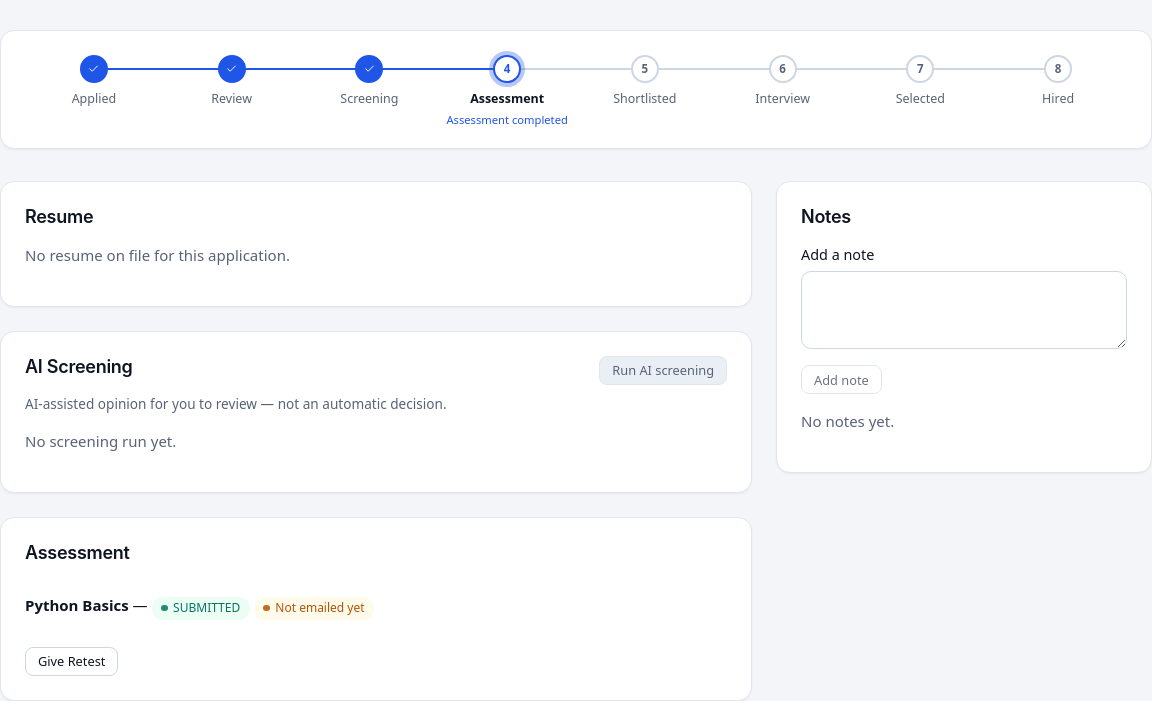
Test: ApplicationDetailPage – Send Retest › closes the modal, shows the success toast and refreshes the data when the retest succeeds
(page scrolled)
Click the button "Give Retest": coordinates (72, 662) [25,647,118,676]
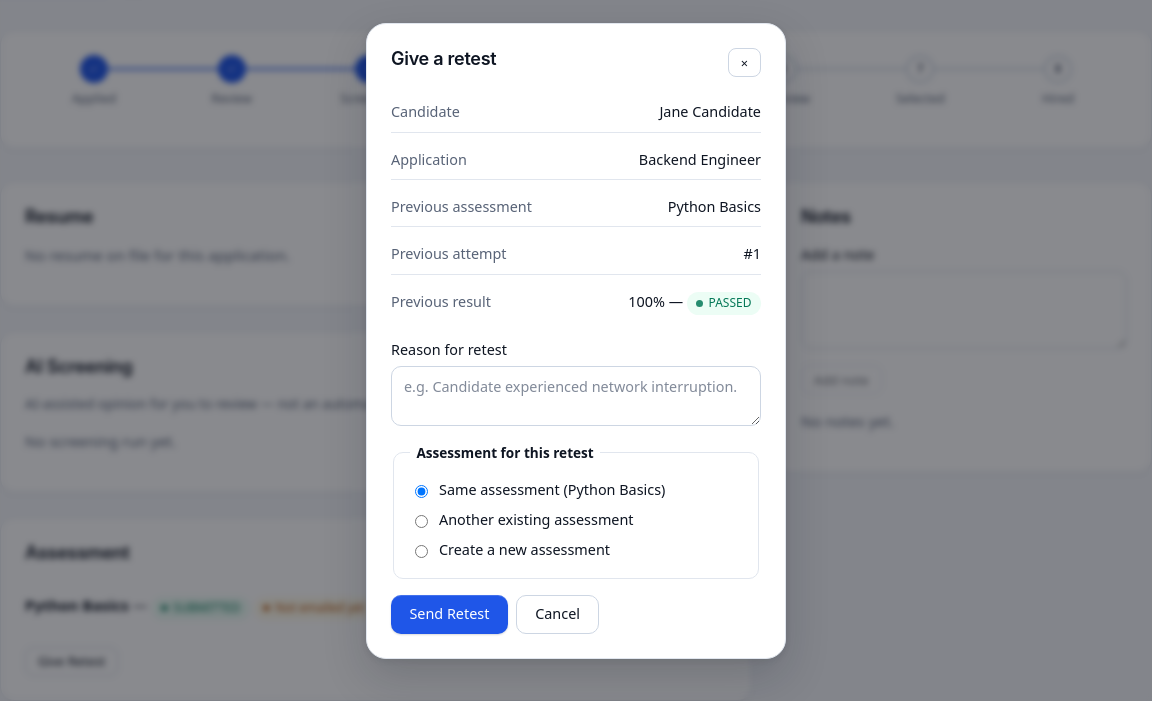
expect the dialog is shown: met, box [366,23,786,659]
In the text box labelled "Reason for retest": coordinates (576, 396) [391,366,761,426], type "Network interruption"
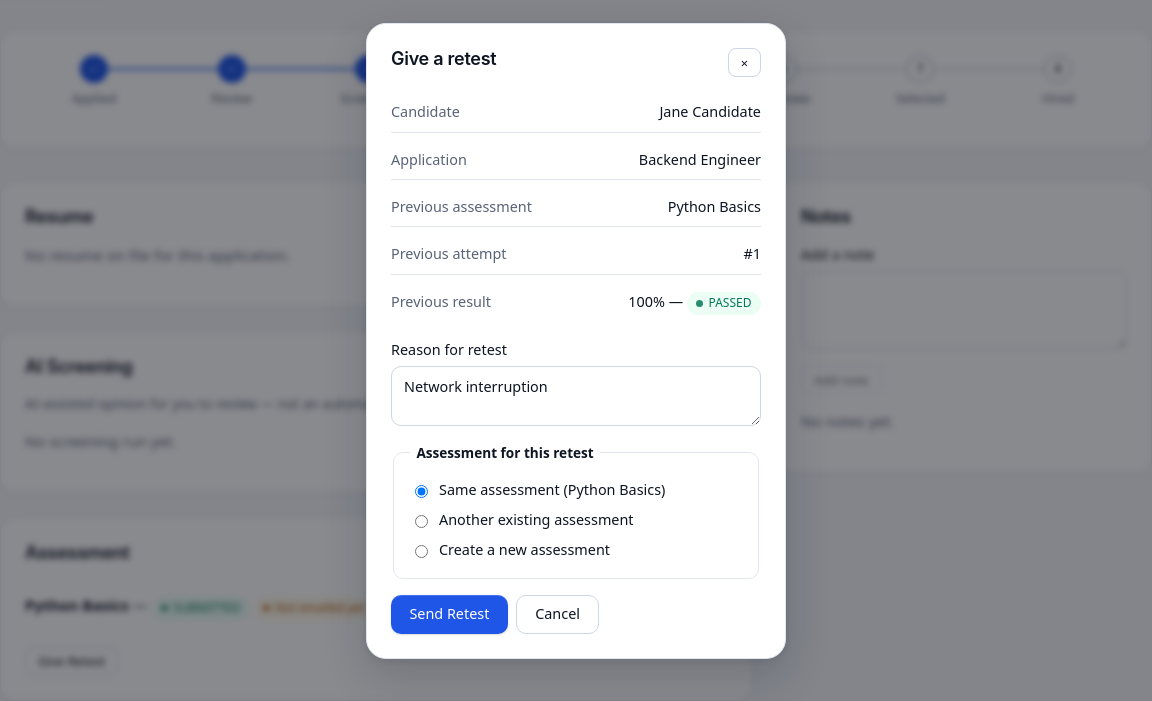
Click the button "Send Retest": coordinates (449, 614) [391,595,508,634]
(page scrolled)
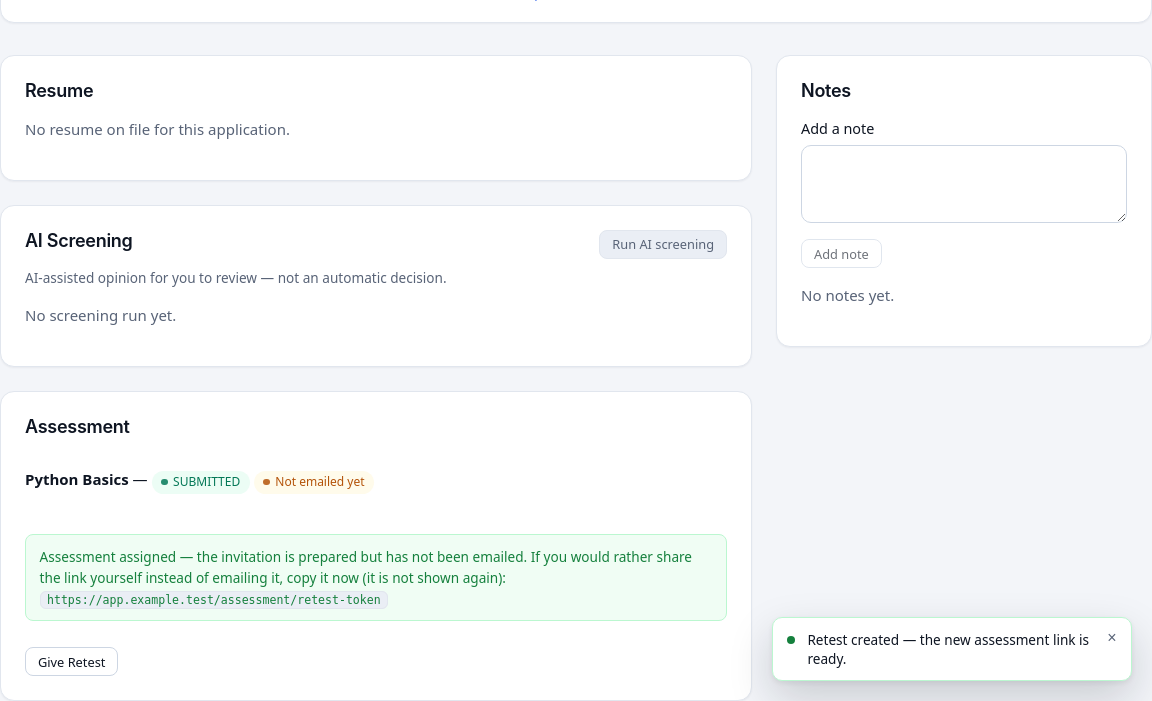
expect the dialog is gone: met
expect the text "Retest created — the new assessment link is ready." is shown: met, box [807,630,1095,668]
expect the text "https://app.example.test/assessment/retest-token" is shown: met, box [40,591,388,609]
